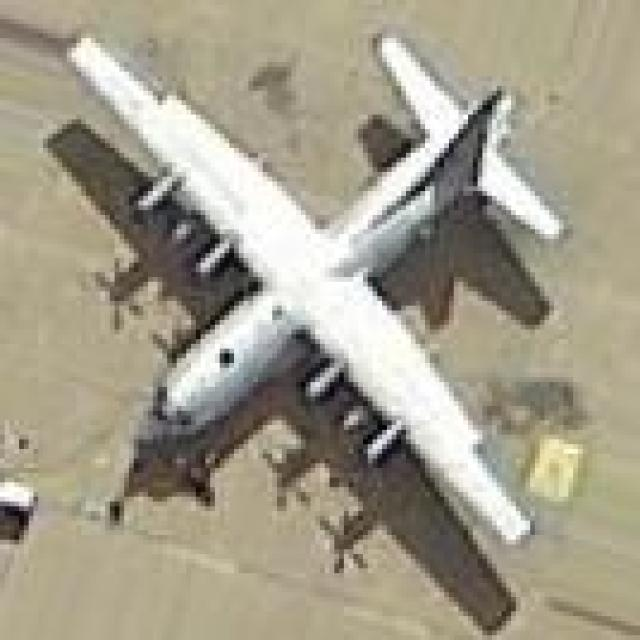C-130_TopDown: (41, 0, 573, 627)
